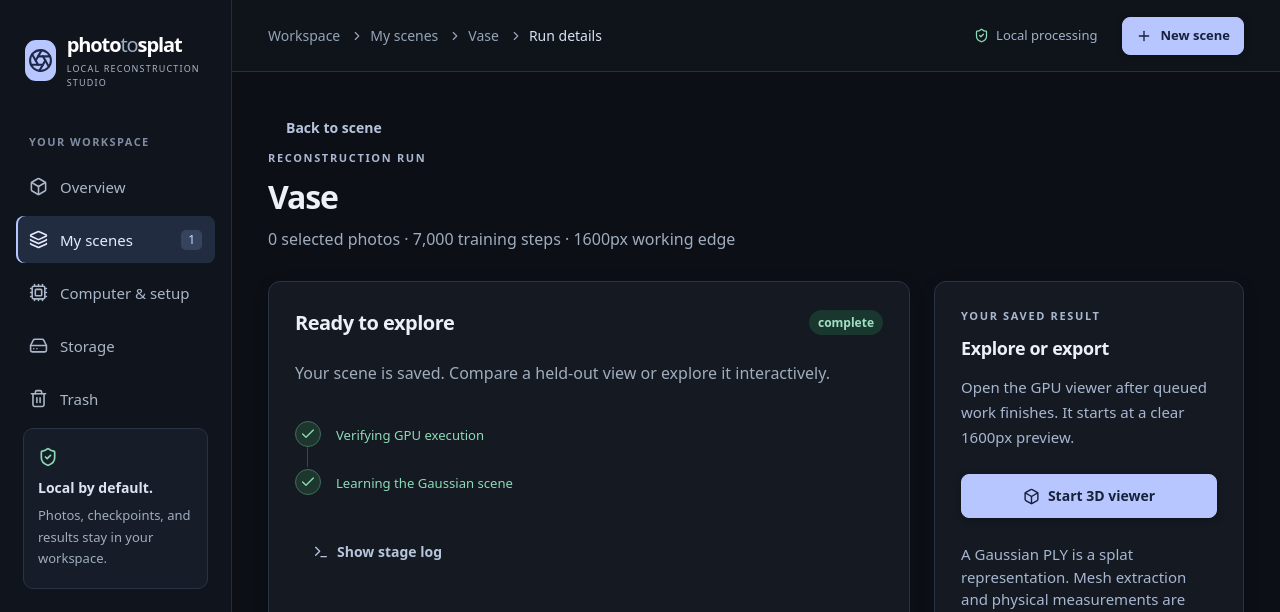
workspace navigation and scene management › restores a deep run URL after refresh and links back to its scene
Expected: the heading "Vase" is shown, left=268, top=174, right=338, bottom=218
Expected: the button "Back to scene" is shown, left=268, top=106, right=400, bottom=150
Click the link "Vase" at (484, 36), box left=468, top=25, right=499, bottom=46
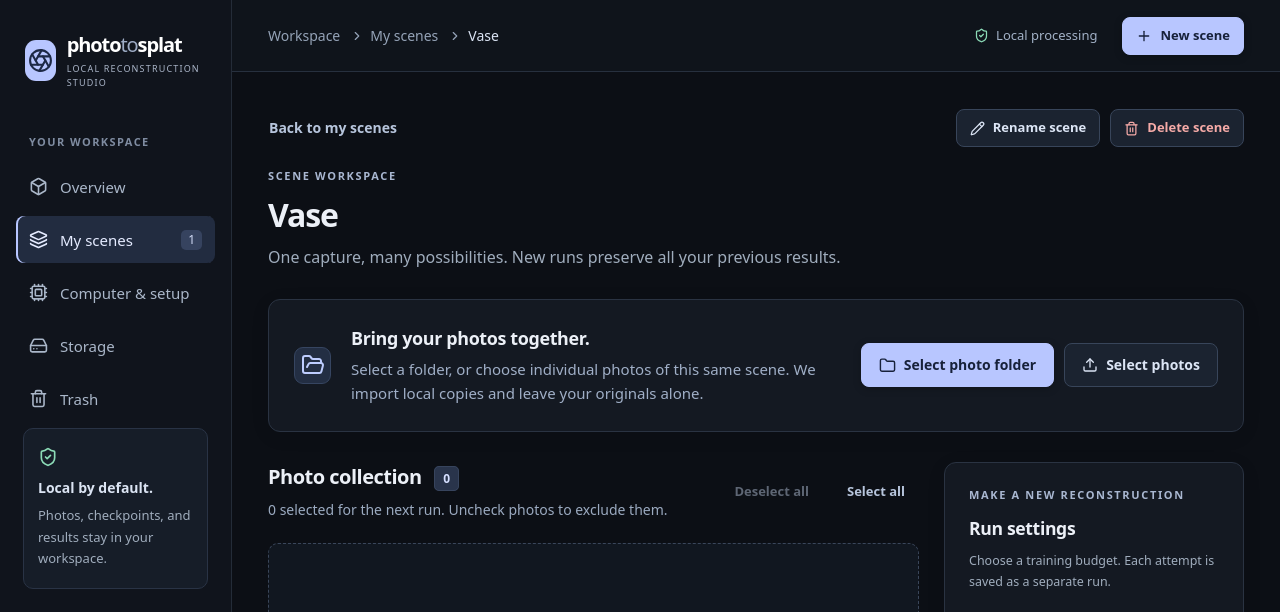
Result: the heading "Bring your photos together." is shown at left=351, top=326, right=590, bottom=350
